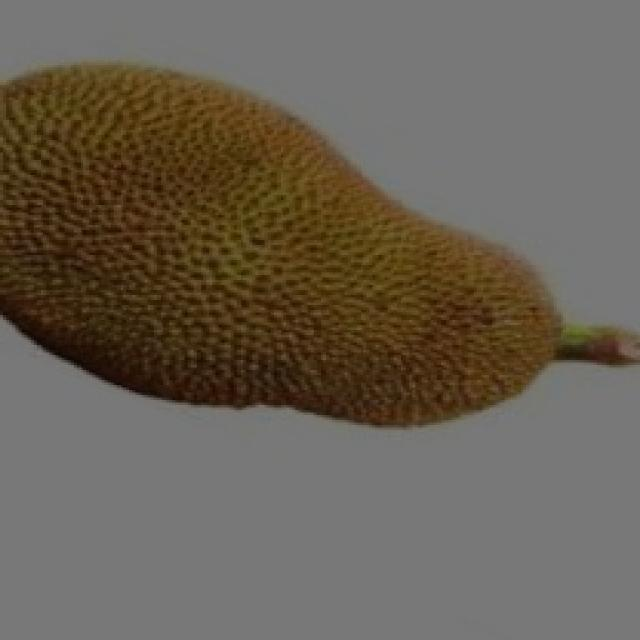Fruit: (0, 30, 406, 438), (240, 93, 588, 455)
